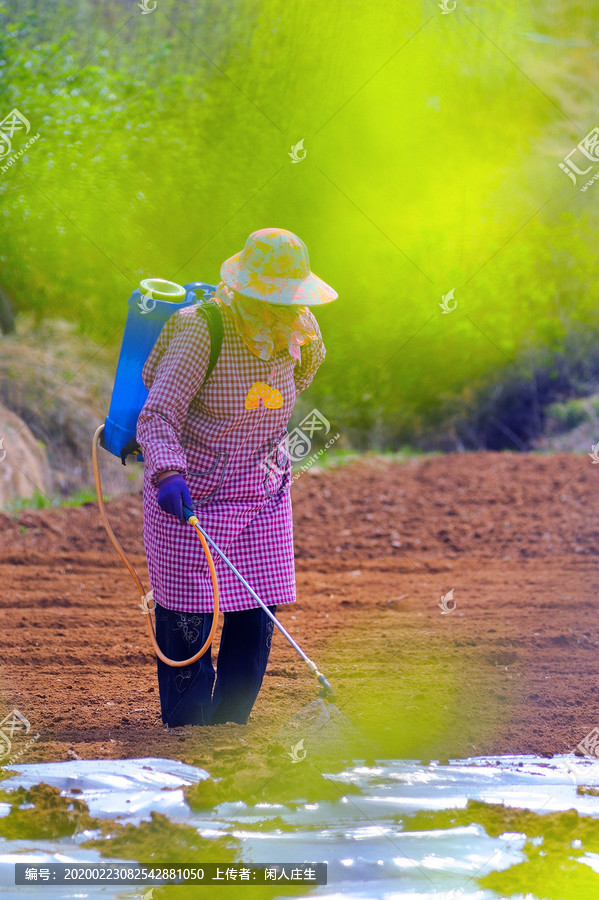berrl: (100, 272, 189, 456)
